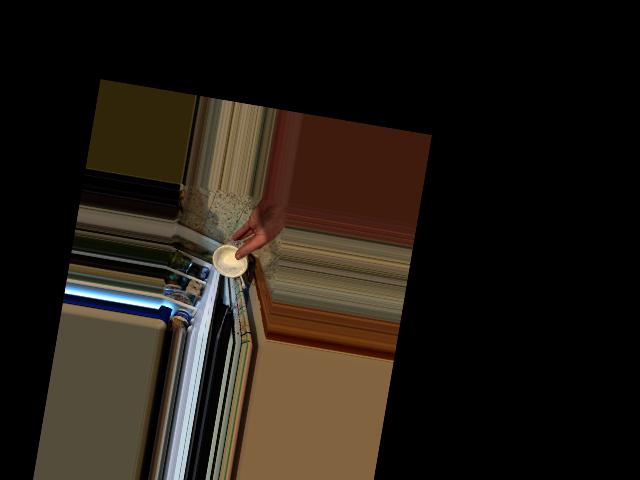cotage: (213, 234, 255, 282)
